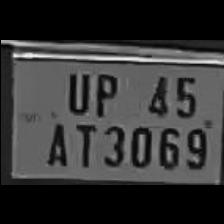0: (125, 119, 153, 166)
3: (96, 119, 124, 166)
4: (141, 68, 169, 116)
5: (171, 70, 197, 118)
6: (153, 122, 179, 168)
9: (182, 122, 208, 168)
A: (40, 115, 68, 167)
P: (88, 64, 120, 114)
T: (70, 118, 96, 166)
U: (60, 65, 90, 113)
